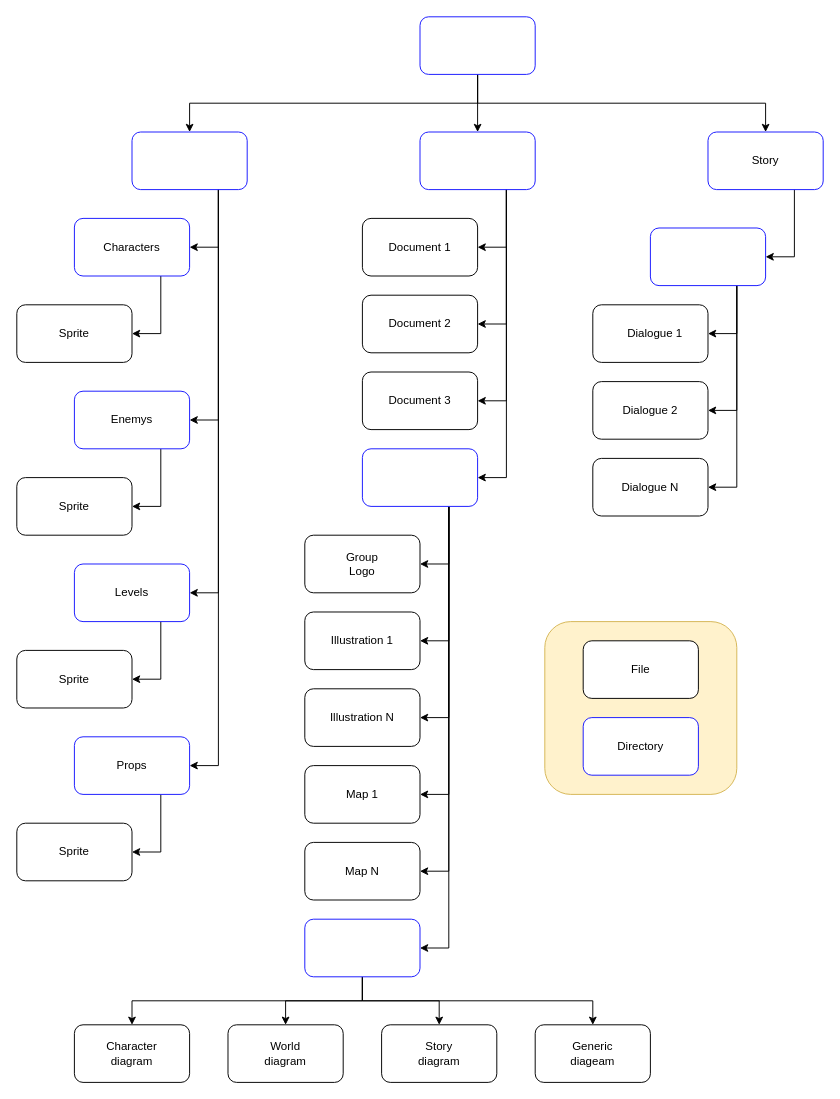
The diagram is 840 pixels wide and 1099 high, and some of its shapes have lost their labels. Here are the shapes that lost their labels. From the top down, the centre of each, then its label:
the point at 477,45: Root foulder
the point at 189,160: Assets
the point at 477,160: Documentation
the point at 707,256: Dialogues
the point at 419,477: Images
the point at 362,947: Diagram
